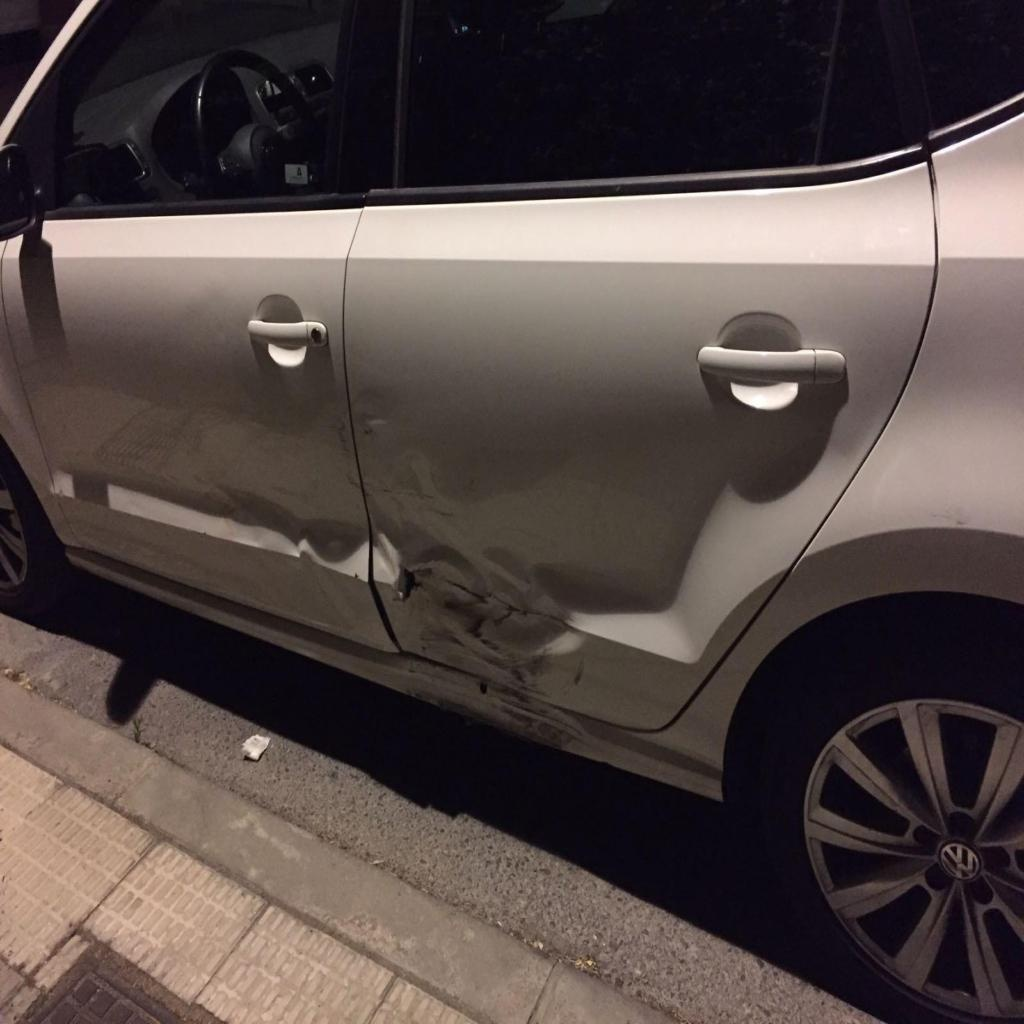Dent: (295, 522, 615, 736)
